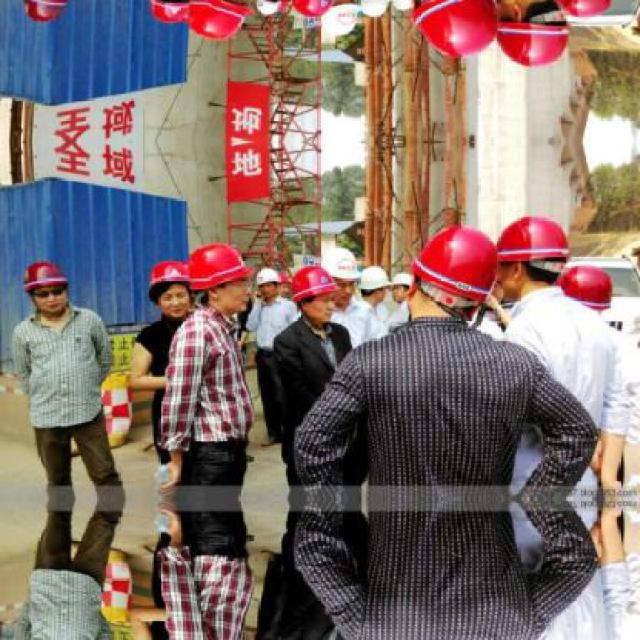helmet: (412, 224, 498, 321), (490, 211, 564, 297), (491, 0, 566, 71), (185, 239, 252, 315), (412, 0, 500, 57), (551, 260, 615, 318), (144, 258, 193, 320), (20, 257, 72, 315), (184, 0, 253, 42), (288, 266, 340, 320), (20, 0, 74, 25), (324, 248, 356, 290), (551, 0, 617, 20), (357, 265, 388, 304), (144, 0, 196, 23), (325, 0, 357, 34), (252, 266, 283, 300), (391, 268, 415, 304), (287, 0, 341, 15), (356, 0, 389, 15), (252, 0, 284, 15), (391, 0, 417, 12)
